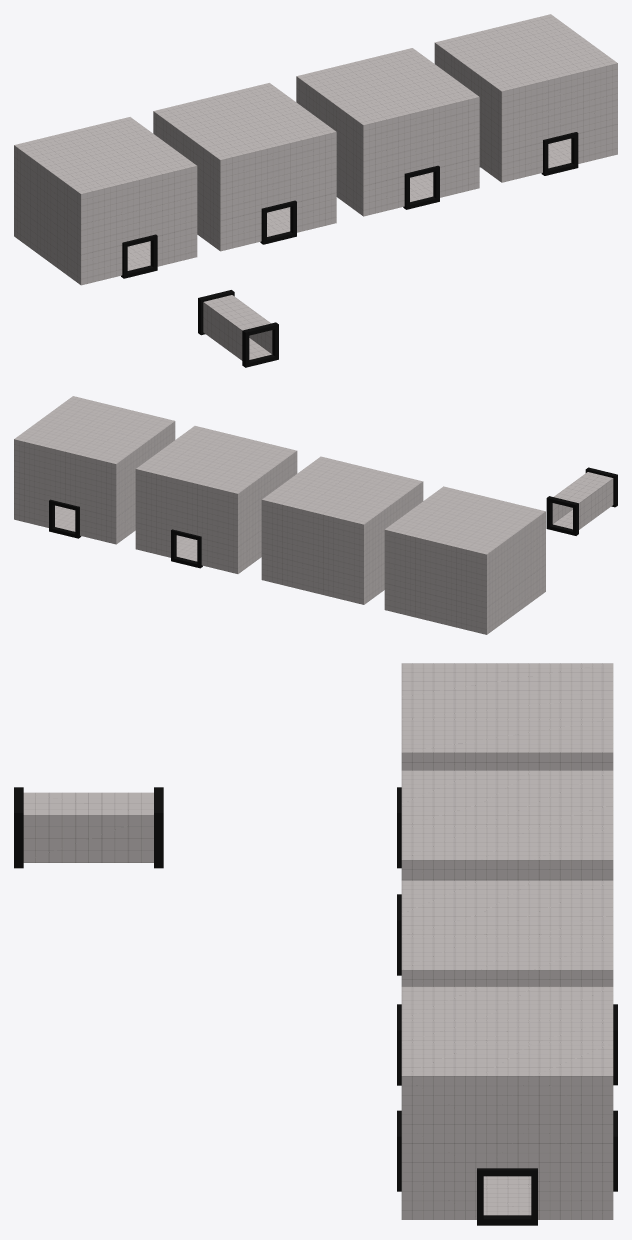
Rendered from prohod_komati.fbx.
3 views of the same model, one above another, from view 1: azimuth 30°, elevation 25°; view 2: azimuth 150°, elevation 25°; view 3: azimuth 270°, elevation 25° (orthographic). The views are drawn at different scales.
Parts seen in each view (by area): view 1: Cube, Cube.006, Cube.002, Cube.005, Cube.015, Cube.016, Cube.004, Cube.009, Cube.007, Cube.011; view 2: Cube, Cube.002, Cube.006, Cube.005, Cube.015, Cube.017, Cube.001, Cube.013; view 3: Cube.005, Cube.002, Cube, Cube.006, Cube.015, Cube.010, Cube.016, Cube.017.
Part boxes in pixels (box(x1,y1,x2,y2)): Cube: box(14, 117, 197, 285); Cube.006: box(296, 48, 479, 216); Cube.002: box(153, 83, 336, 251); Cube.005: box(434, 14, 617, 182); Cube.015: box(203, 295, 272, 360); Cube.016: box(242, 322, 278, 367); Cube.004: box(121, 234, 157, 278); Cube.009: box(541, 132, 578, 175); Cube.007: box(260, 200, 296, 244); Cube.011: box(403, 165, 439, 209); Cube: box(384, 486, 545, 634); Cube.002: box(261, 456, 423, 604); Cube.006: box(135, 426, 297, 573); Cube.005: box(14, 396, 175, 544); Cube.015: box(552, 472, 613, 529); Cube.017: box(546, 496, 578, 535); Cube.001: box(49, 499, 81, 538); Cube.013: box(171, 529, 202, 568); Cube.005: box(401, 986, 613, 1219); Cube.002: box(401, 770, 613, 880); Cube: box(401, 663, 613, 770); Cube.006: box(401, 880, 613, 986); Cube.015: box(23, 792, 153, 862); Cube.010: box(477, 1168, 537, 1225); Cube.016: box(14, 787, 23, 868); Cube.017: box(154, 787, 163, 868).
Size of the model in its own units: 9284 by 1539 by 5714.
